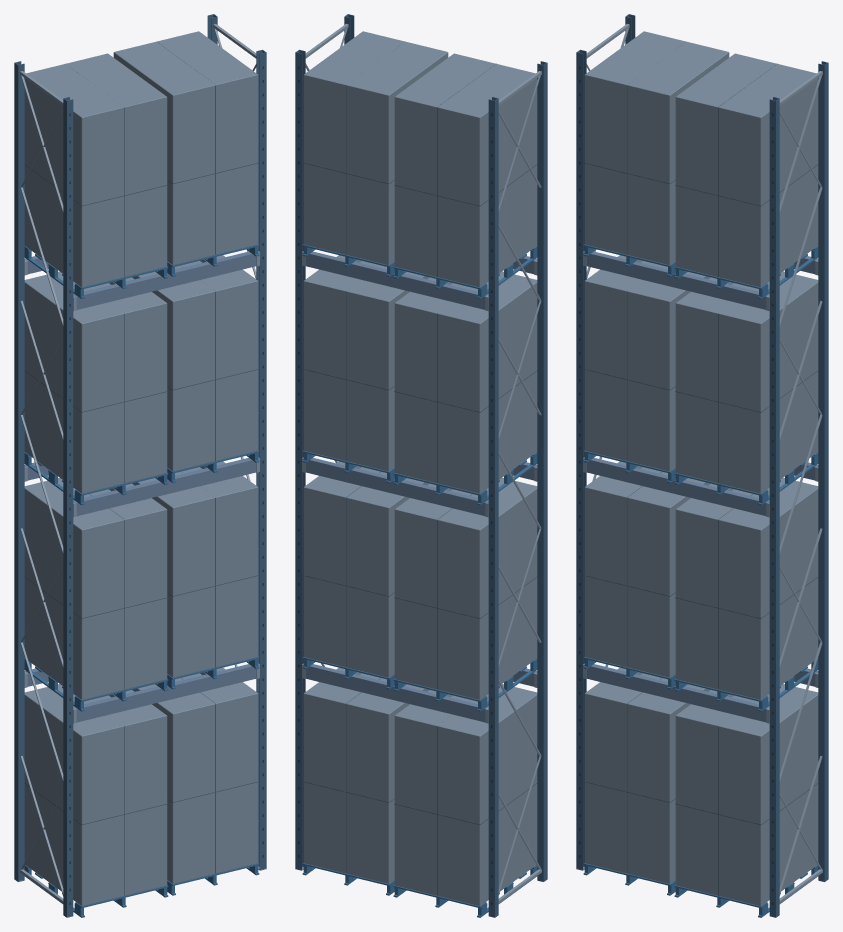
File: SM_GHS_CADRack_A_W23409.fbx
3 views of the same model, side by side, from view 1: azimuth 30°, elevation 25°; view 2: azimuth 150°, elevation 25°; view 3: azimuth 330°, elevation 25° (orthographic).
Parts seen in each view (by area): view 1: SM_GHS_CADRack_A_W23409; view 2: SM_GHS_CADRack_A_W23409; view 3: SM_GHS_CADRack_A_W23409.
Boxes of the visible parts, <box> form: SM_GHS_CADRack_A_W23409: <box>14,14,266,917</box>; SM_GHS_CADRack_A_W23409: <box>295,14,547,917</box>; SM_GHS_CADRack_A_W23409: <box>576,14,828,917</box>.
Size of the model in its own units: 234 by 122 by 915.
